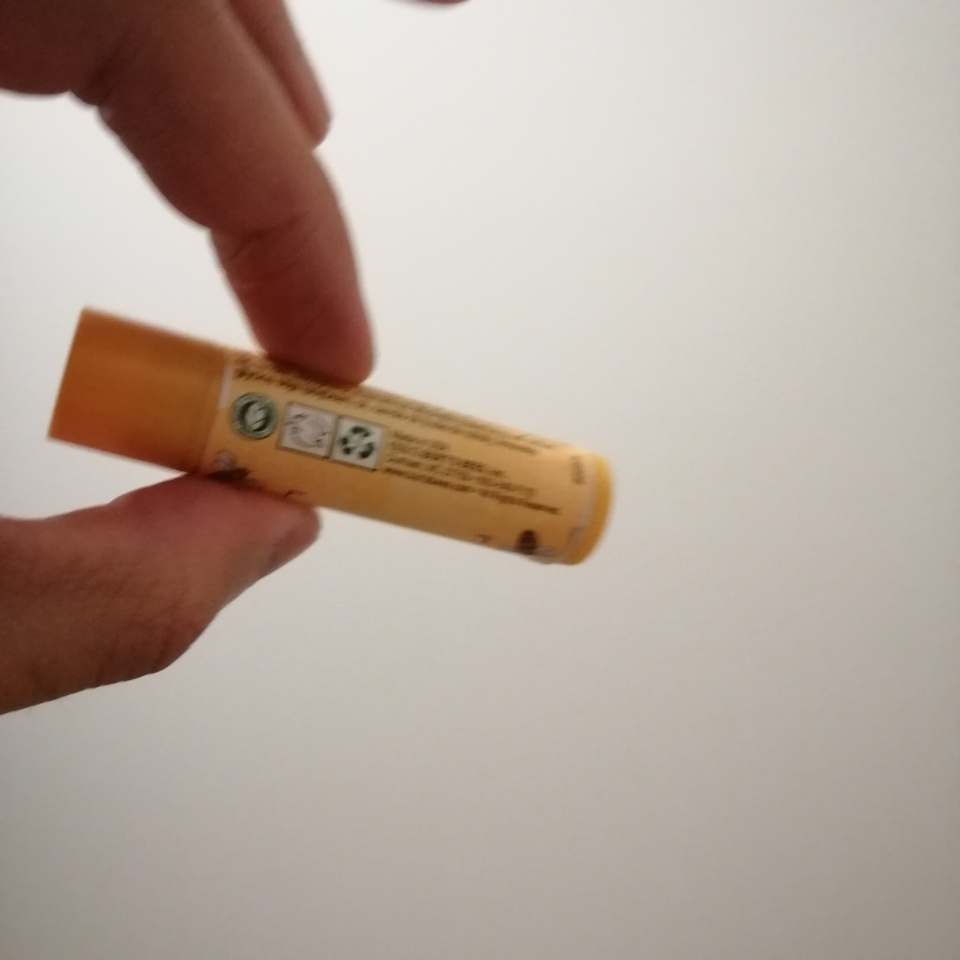chapstick: (45, 304, 617, 568)
